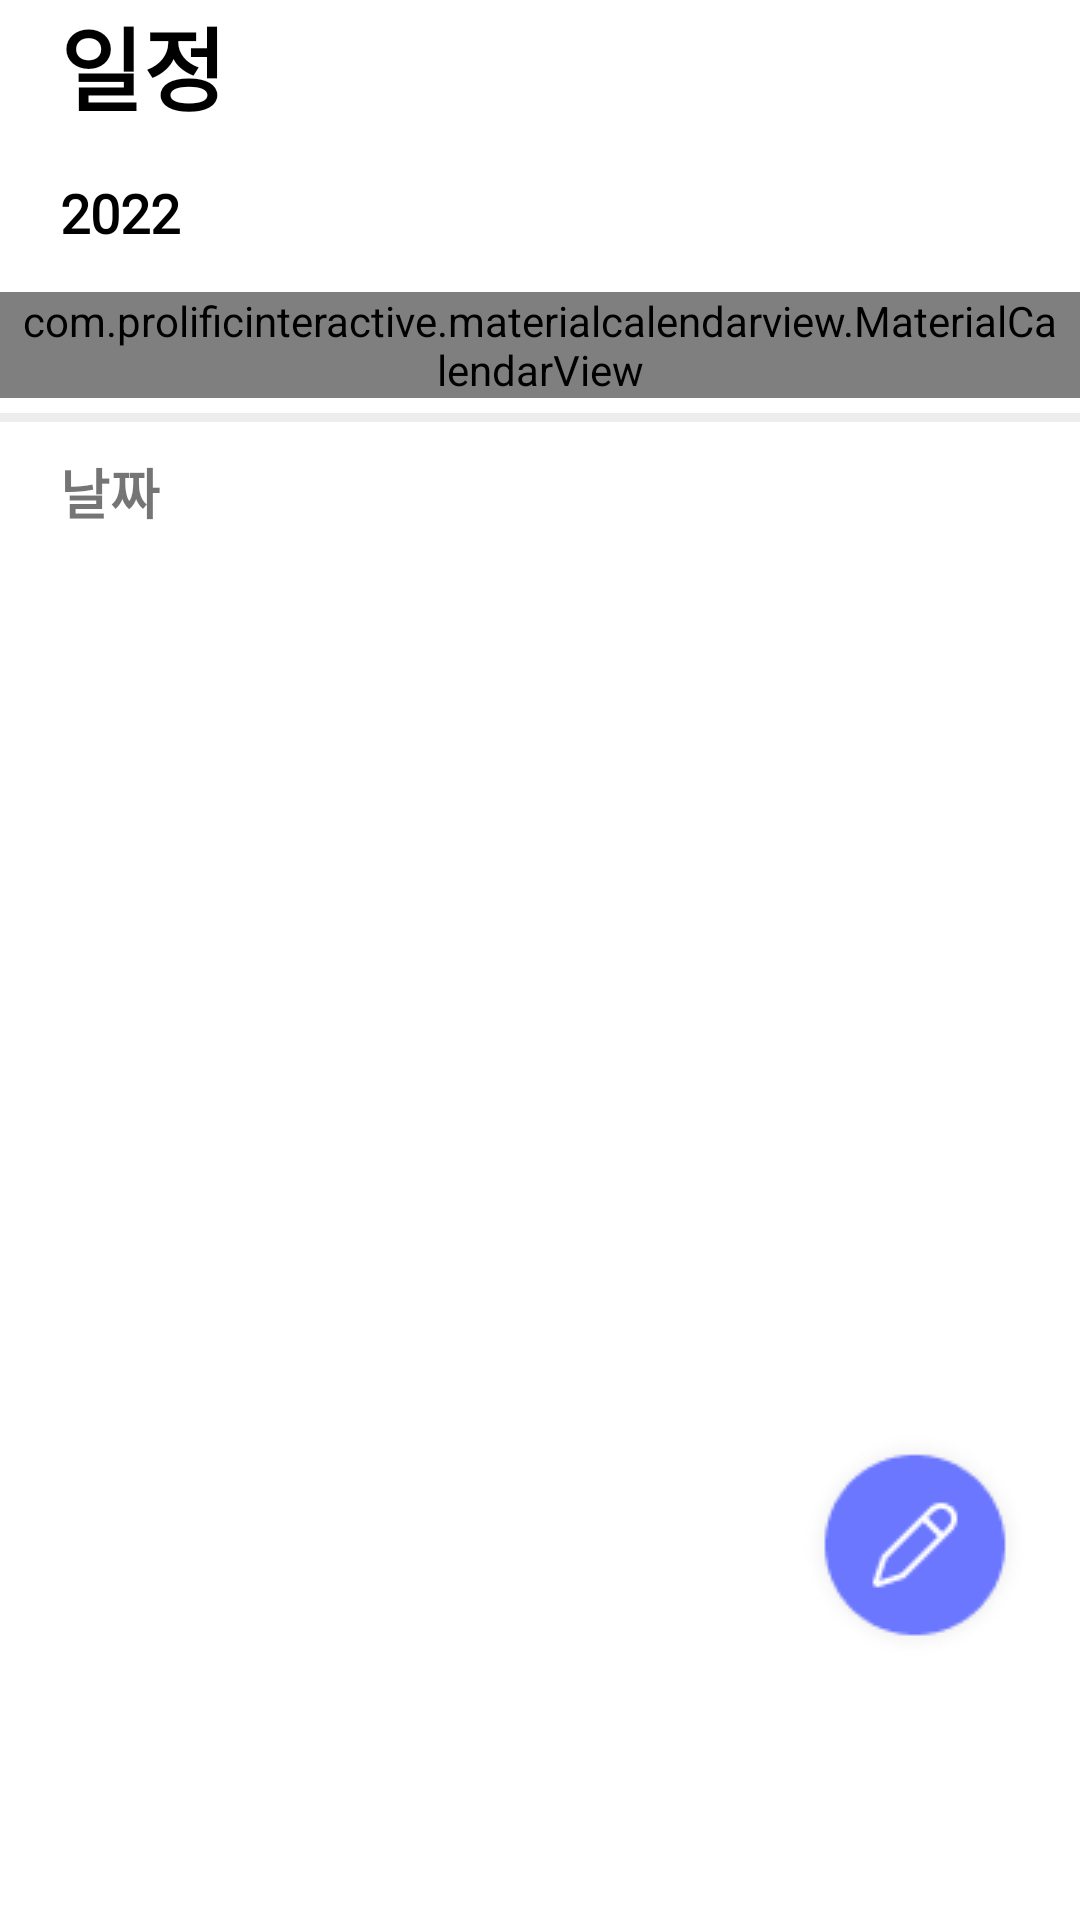

Where to tap for icons on this 1080x1920 app screen, as (x=x, y=y):
noticeeditbtn: (x=915, y=1545)
